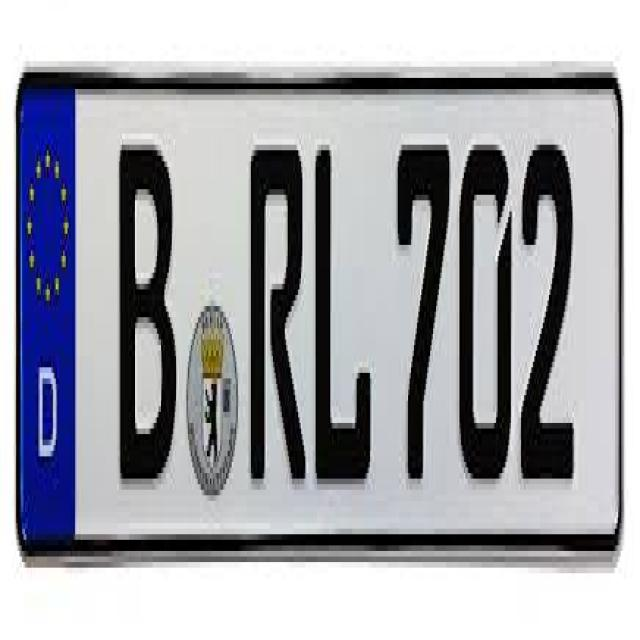Allemagne: (15, 83, 74, 553)
EU: (14, 73, 623, 562)
